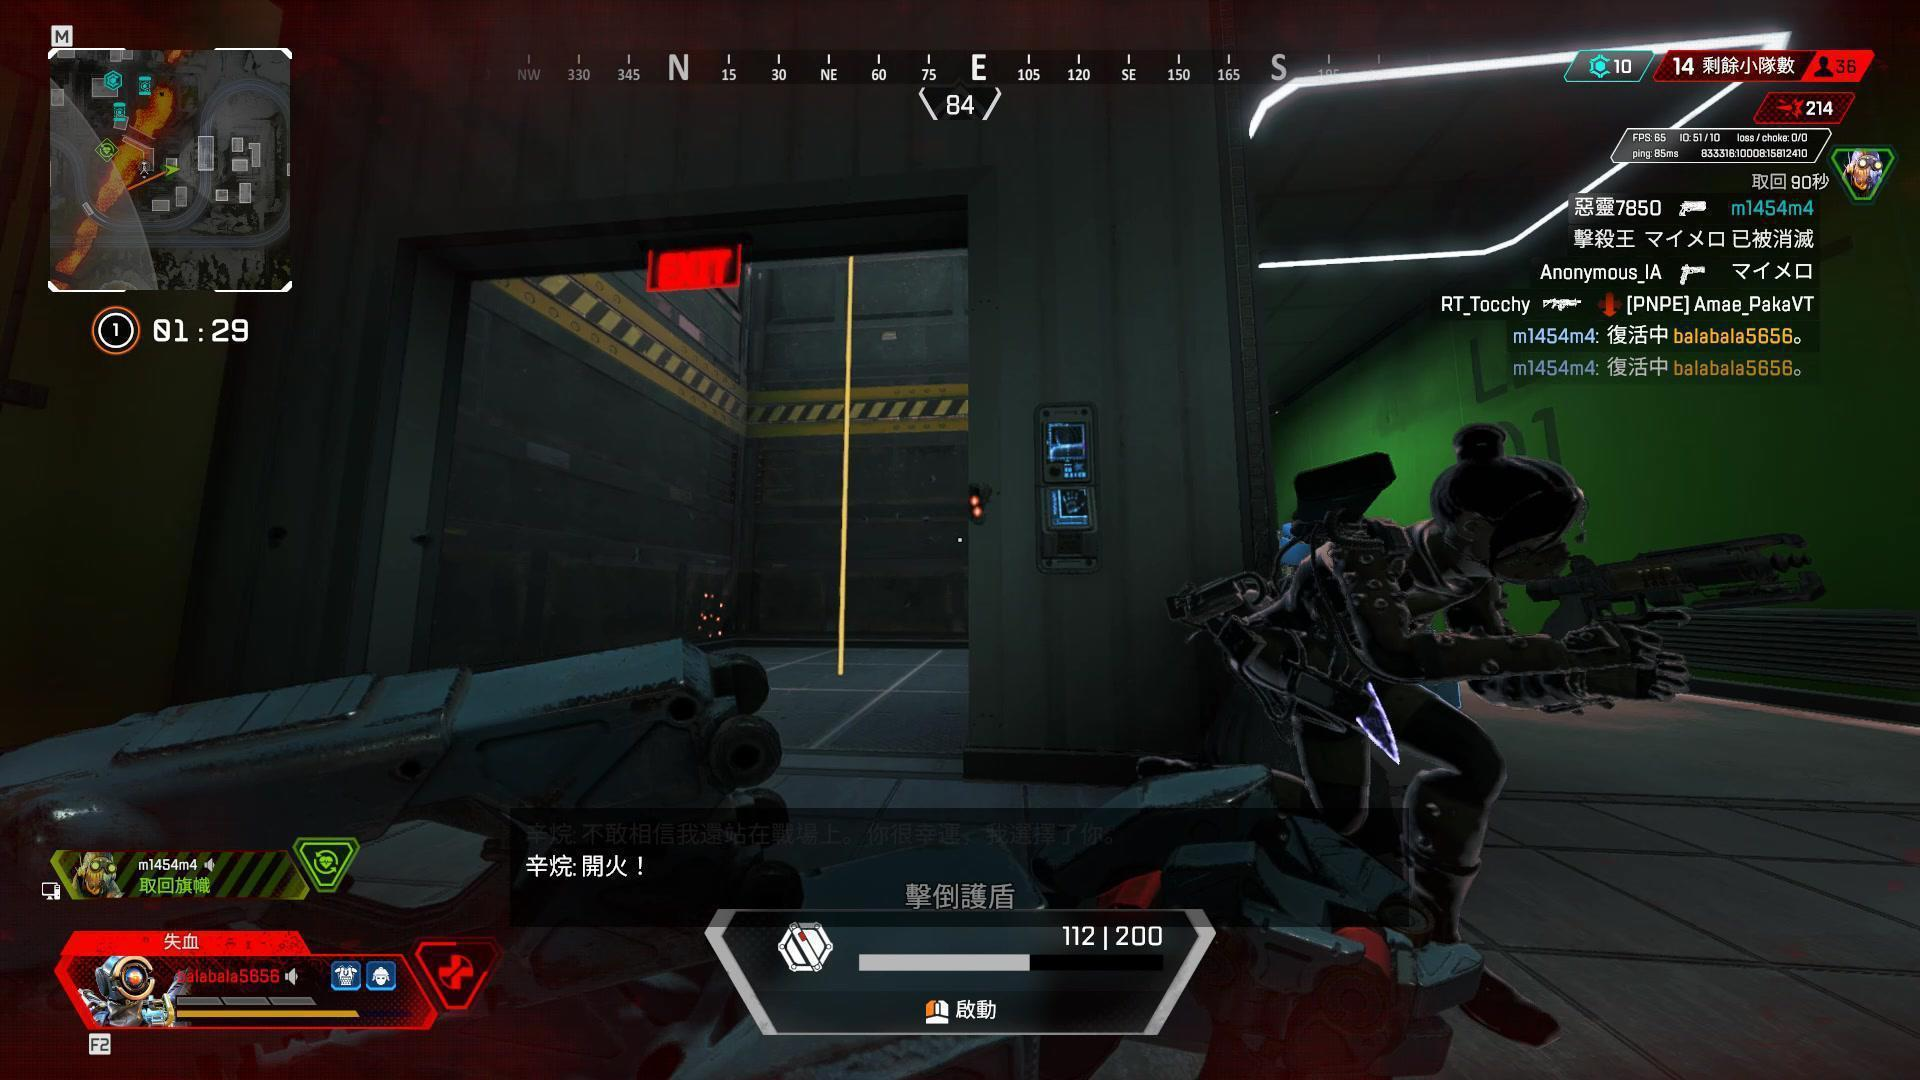avatar: (1233, 419, 1587, 1053)
